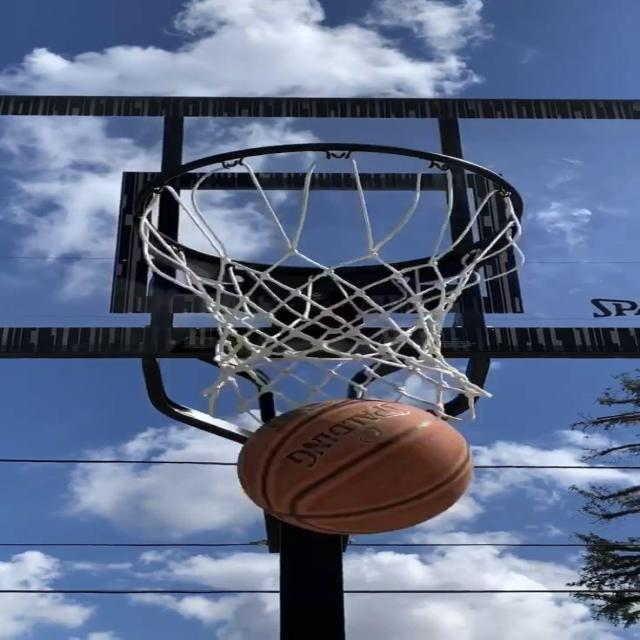hoop: (53, 132, 571, 440)
